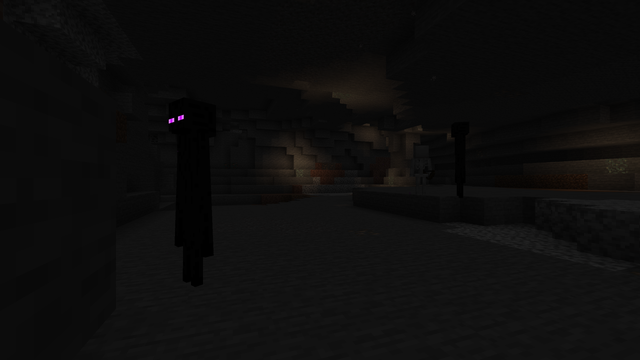endermens: (166, 90, 213, 292), (447, 118, 471, 195)
squelettes: (409, 145, 431, 195)
